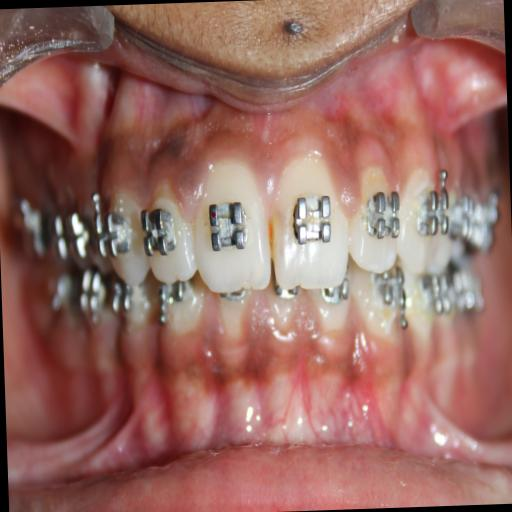correct_brace: (284, 184, 335, 249), (206, 190, 250, 253), (363, 180, 402, 242), (92, 199, 130, 262), (416, 182, 451, 242), (142, 208, 176, 254)
incorrect_brace: (349, 158, 403, 276), (146, 180, 198, 288)
